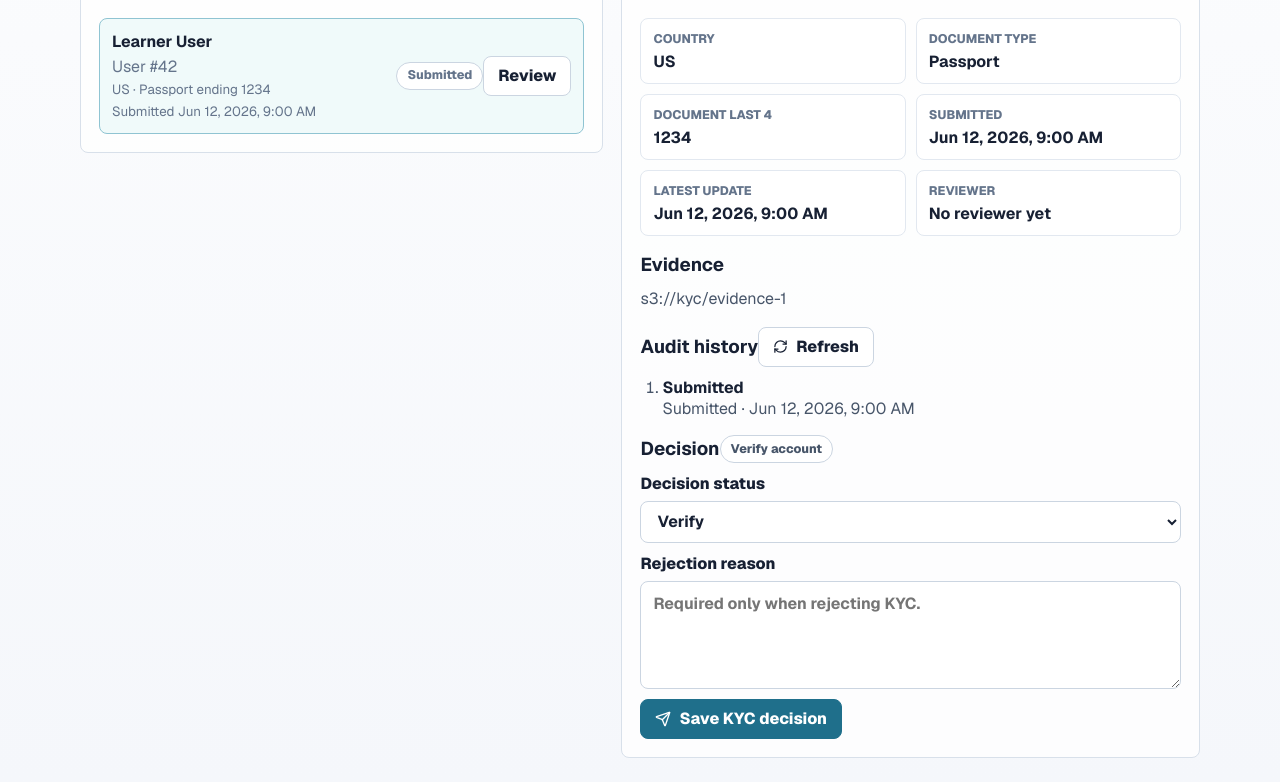
AdminKycReviewRoute › loads the queue and verifies a submission
(page scrolled)
Expected: the text "Learner User" is shown, [112,30,212,52]
Click the button "Save KYC decision": (741, 718) [640,698,842,738]
(page scrolled)
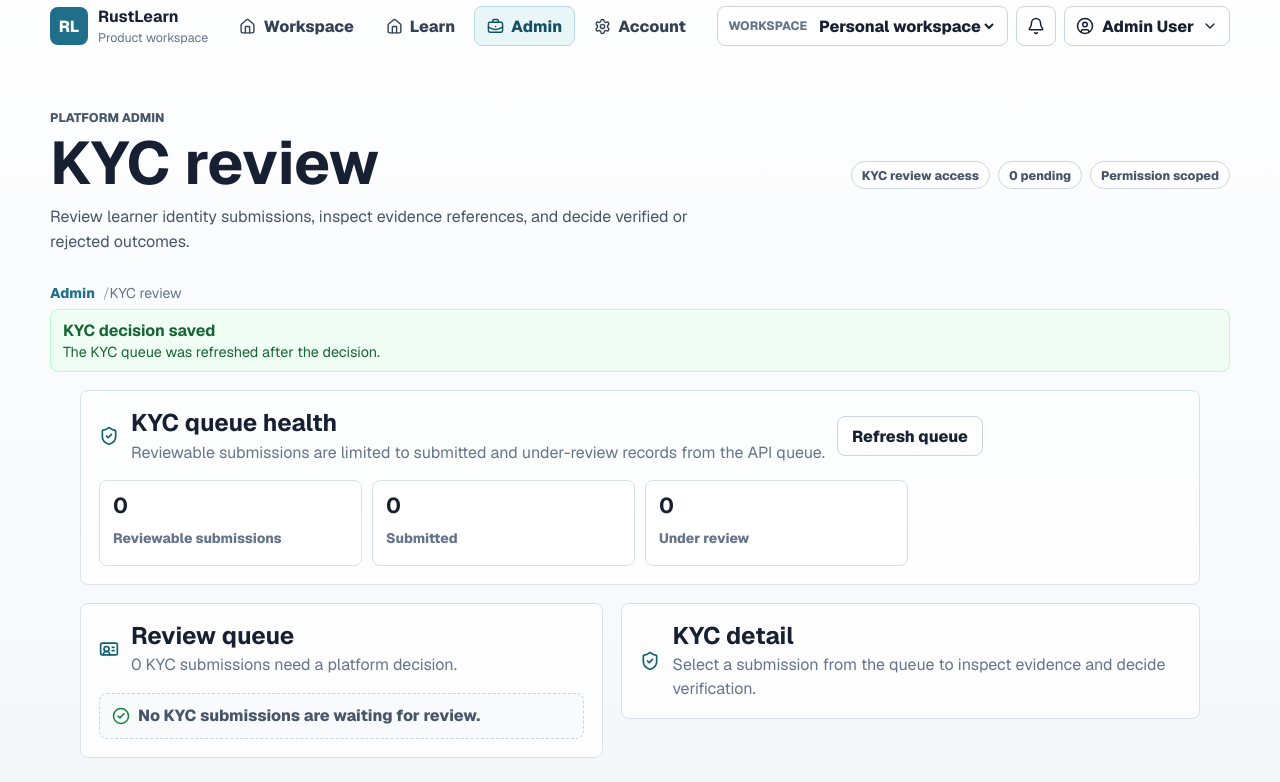
Result: the text "KYC decision saved" is shown at [63,320,216,341]
